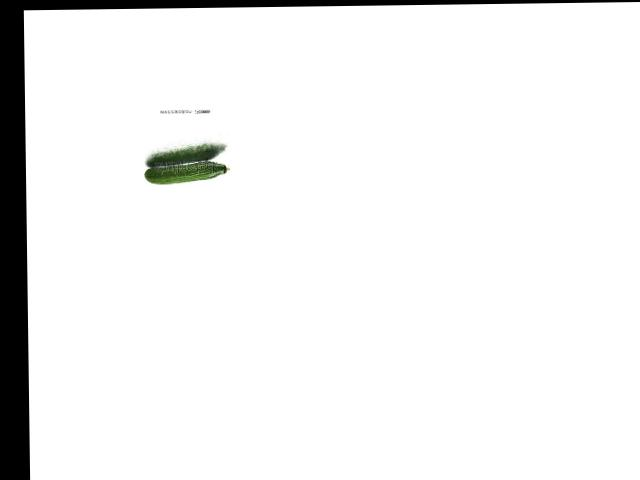cucumber: (145, 160, 230, 184)
